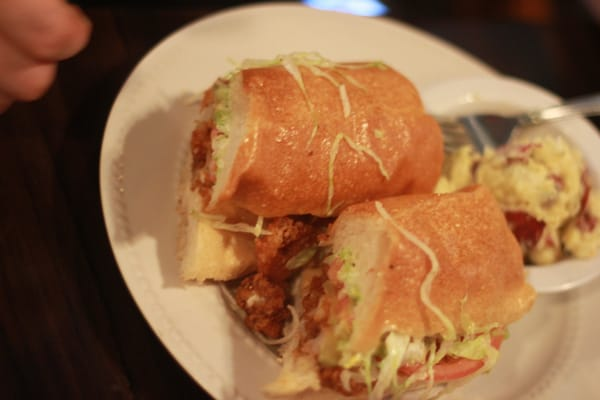soup: (175, 52, 446, 284), (250, 182, 537, 395)
